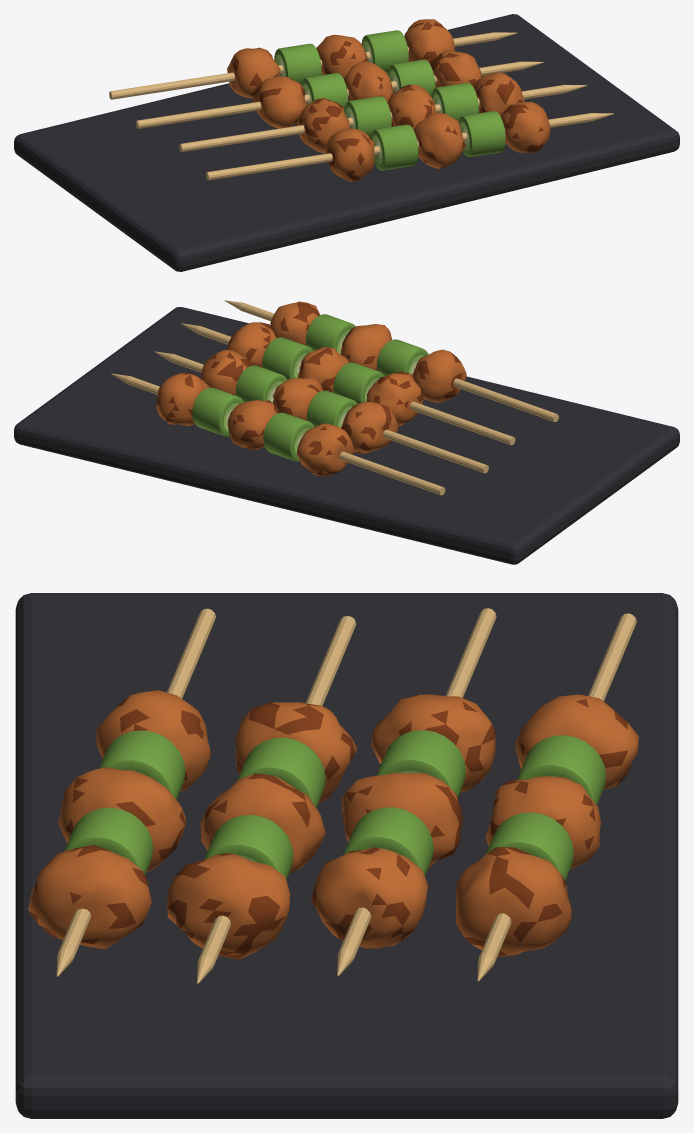
The model's file is Yakitori_Plate.fbx.
3 views of the same model, one above another, from view 1: azimuth 30°, elevation 25°; view 2: azimuth 150°, elevation 25°; view 3: azimuth 270°, elevation 25° (orthographic). The views are drawn at different scales.
Visible parts, largest first — view 1: Yakitori_Plate; view 2: Yakitori_Plate; view 3: Yakitori_Plate.
Boxes of the visible parts, x1,y1,x2,y2 form: Yakitori_Plate: [14, 14, 679, 271]; Yakitori_Plate: [14, 300, 679, 564]; Yakitori_Plate: [15, 593, 678, 1118].
Size of the model in its own units: 0.3 by 0.0409 by 0.17.
